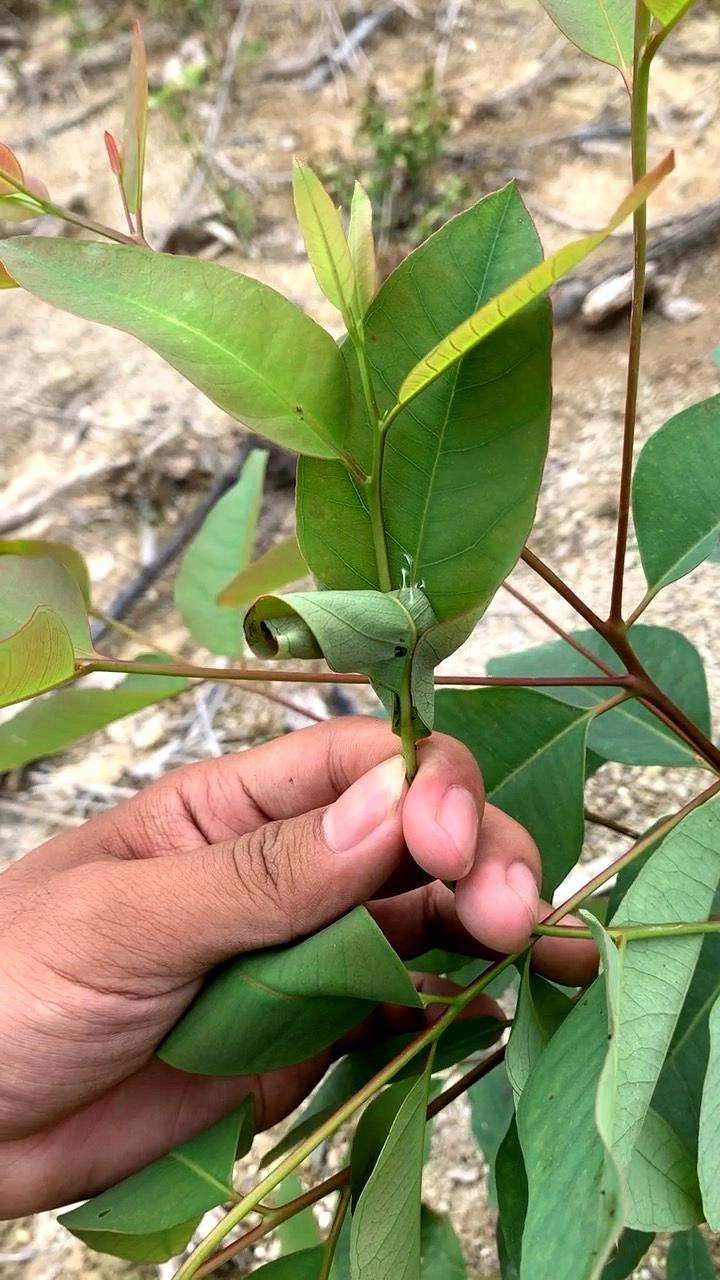Leaf Roller - Leaf: (218, 550, 485, 708)
